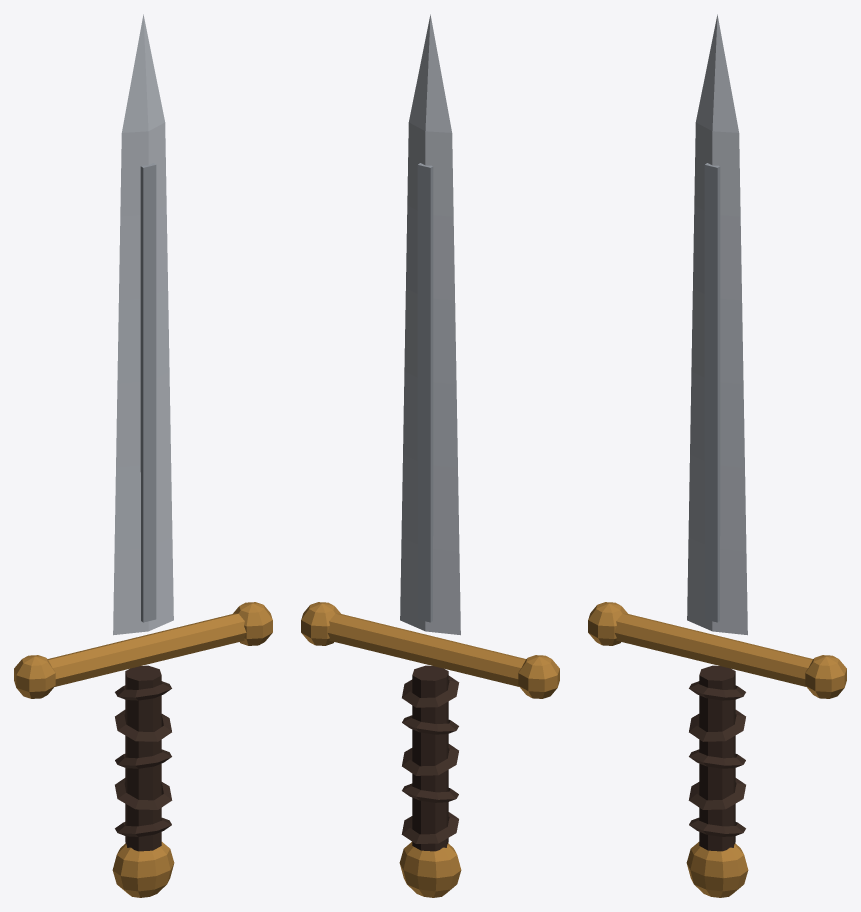
Rendered from gear_sword_iron_v01.glb.
3 renders of one model, left to right at view 1: azimuth 30°, elevation 25°; view 2: azimuth 150°, elevation 25°; view 3: azimuth 330°, elevation 25°, orthographic.
Parts seen in each view (by area): view 1: sword_iron; view 2: sword_iron; view 3: sword_iron.
Part boxes in pixels (x1=…): sword_iron: x1=14, y1=14, x2=272, y2=897; sword_iron: x1=301, y1=14, x2=559, y2=897; sword_iron: x1=588, y1=14, x2=846, y2=897.
Size of the model in its own units: 0.2342 by 0.776 by 0.0465.
